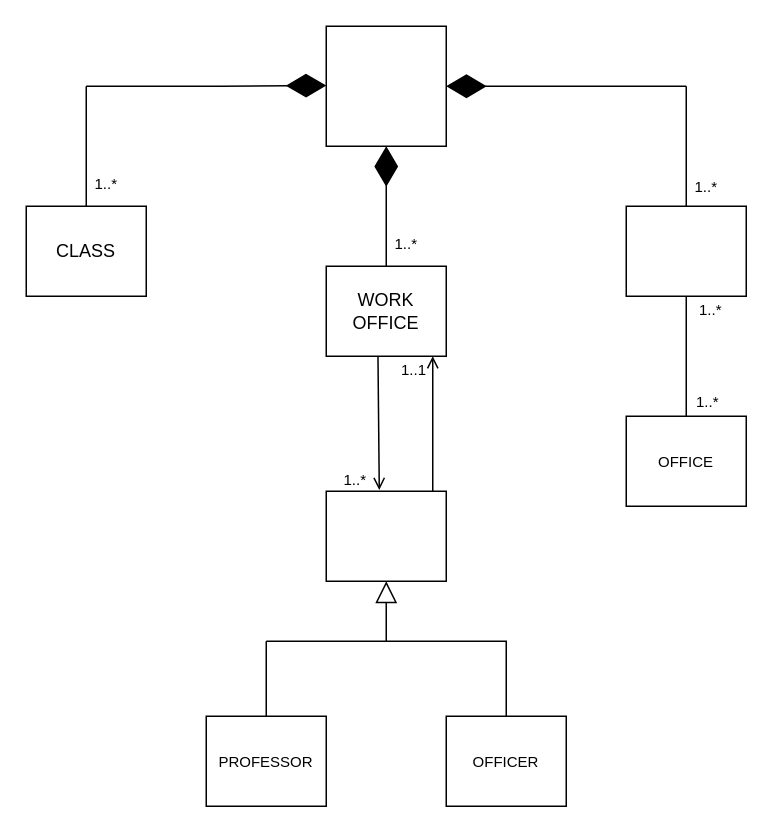
This 773x833 diagram has some shape labels left out. Here are the shapes that lost their labels. From the top down, the centre of each, then its label:
At (385,85): "UNIVERSITY".
At (685,250): "DEPARTMANTS".
At (385,535): "EMPLOYEE".
